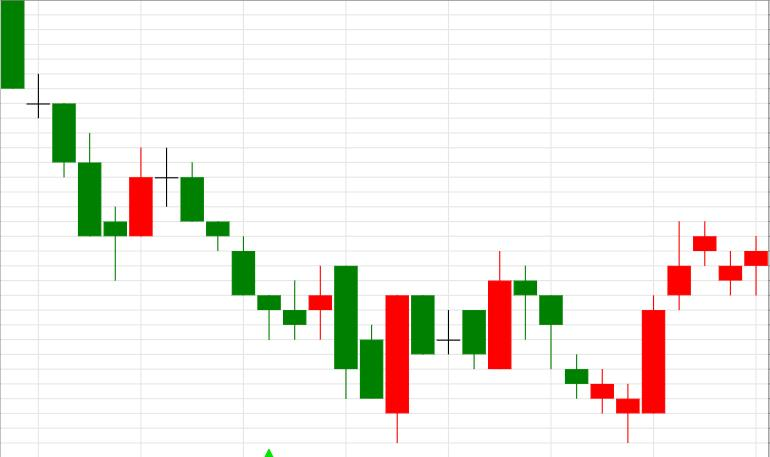bullish_engulfing_rise: (181, 162, 409, 442)
